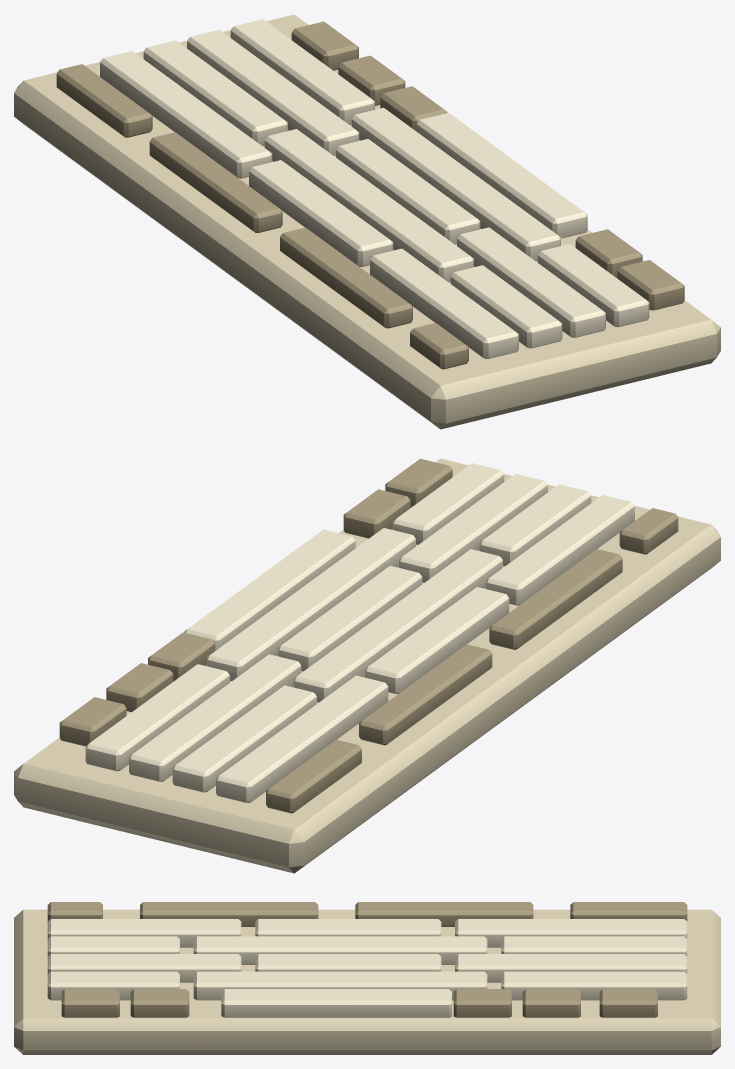
Rendered from Keyboard.fbx.
3 views of the same model, one above another, from view 1: azimuth 30°, elevation 25°; view 2: azimuth 150°, elevation 25°; view 3: azimuth 270°, elevation 25° (orthographic). The views are drawn at different scales.
Visible parts, largest first — view 1: Keyboard; view 2: Keyboard; view 3: Keyboard.
Part boxes in pixels (left/top/right/bottom): Keyboard: left=14, top=14, right=720, bottom=429; Keyboard: left=14, top=458, right=720, bottom=873; Keyboard: left=14, top=902, right=720, bottom=1054.
Bounding box in the file's own units: 0.81 × 0.1688 × 2.07.
Materials: 1 (1 with a texture image).
